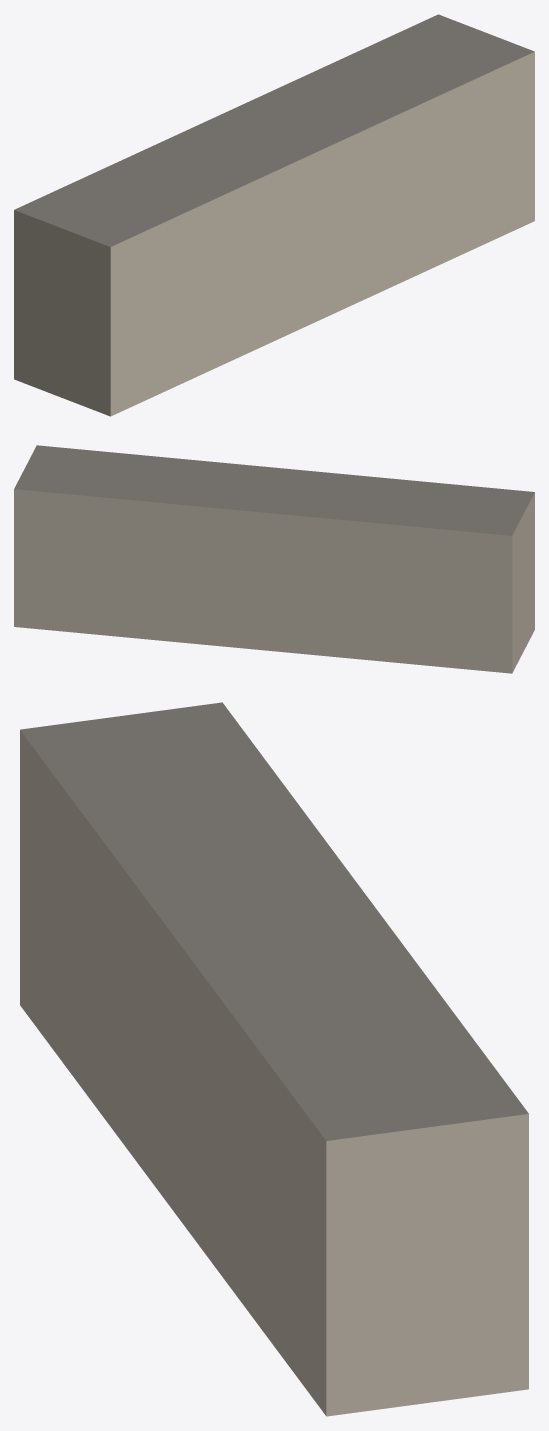
3 views of the same model, one above another, from view 1: azimuth 30°, elevation 25°; view 2: azimuth 150°, elevation 25°; view 3: azimuth 270°, elevation 25° (orthographic). The views are drawn at different scales.
Visible parts, largest first — view 1: HP-w299010067; view 2: HP-w299010067; view 3: HP-w299010067.
Part boxes in pixels (x1=…): HP-w299010067: x1=14, y1=14, x2=534, y2=416; HP-w299010067: x1=14, y1=445, x2=534, y2=673; HP-w299010067: x1=20, y1=702, x2=528, y2=1416.
Size of the model in its own units: 61.46 by 18 by 30.15.
